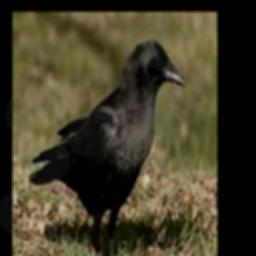Crow: (30, 37, 185, 256)
